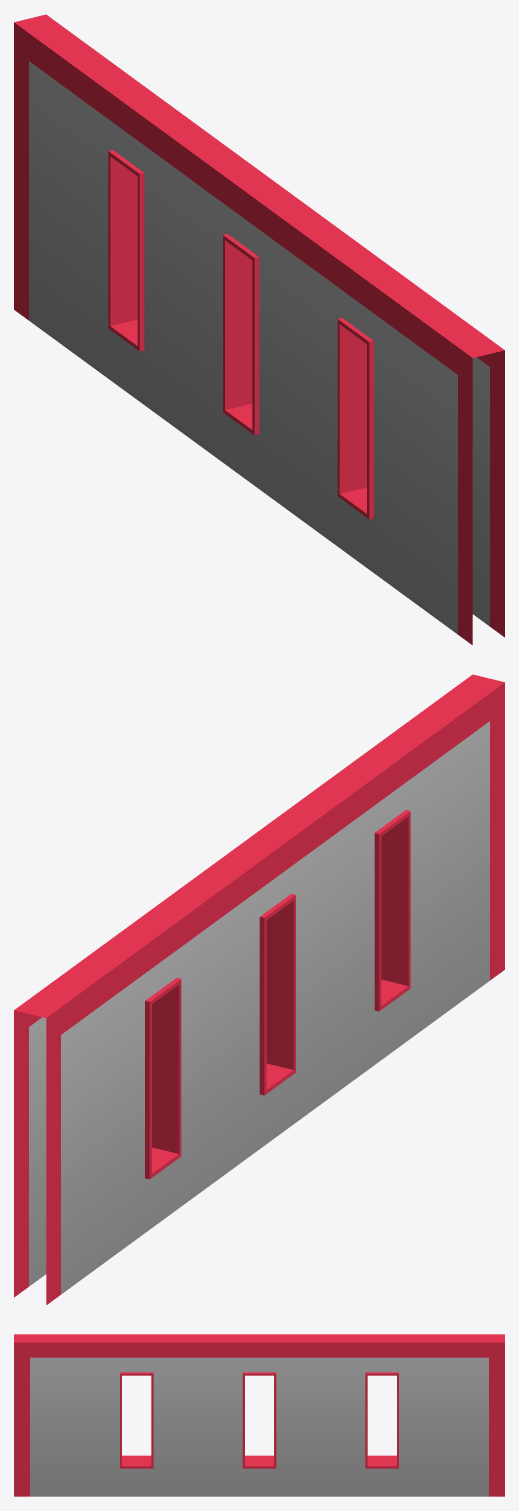
The model's file is WallPasar4.fbx.
The picture shows the model from 3 angles, top to bottom: view 1: azimuth 30°, elevation 25°; view 2: azimuth 150°, elevation 25°; view 3: azimuth 270°, elevation 25°; orthographic projection. The views are drawn at different scales.
Parts seen in each view (by area): view 1: WallPasar4_LOD0; view 2: WallPasar4_LOD0; view 3: WallPasar4_LOD0.
Part boxes in pixels (bbox=[...]): WallPasar4_LOD0: bbox=[14, 14, 504, 644]; WallPasar4_LOD0: bbox=[14, 674, 504, 1304]; WallPasar4_LOD0: bbox=[14, 1334, 504, 1496].
Size of what is drawn, in the model's own units: 54.39 by 359 by 1038.
